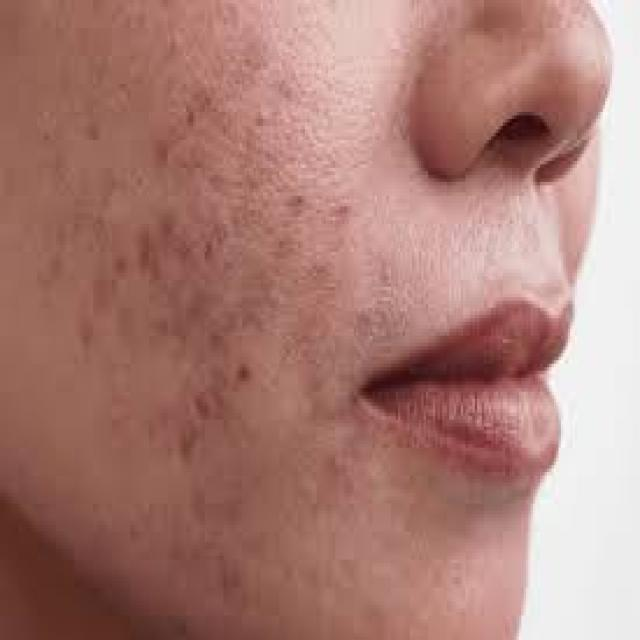pigmentation: (106, 150, 335, 436)
